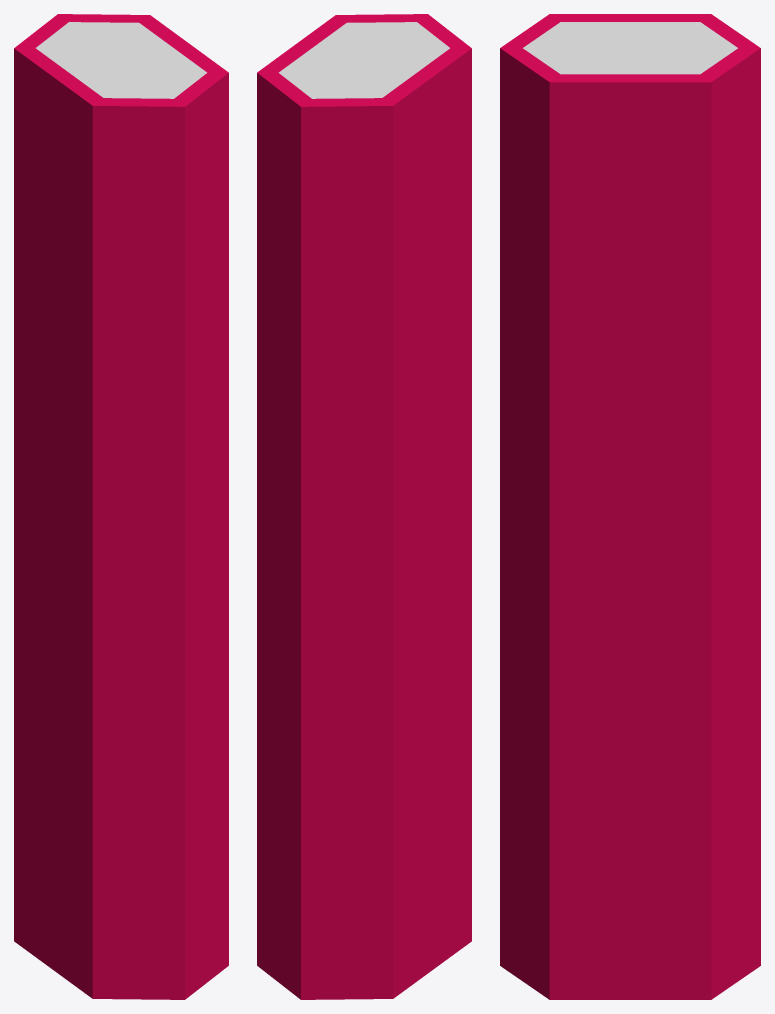
The picture shows the model from 3 angles, left to right: view 1: azimuth 30°, elevation 25°; view 2: azimuth 150°, elevation 25°; view 3: azimuth 270°, elevation 25°; orthographic projection. The views are drawn at different scales.
Visible parts, largest first — view 1: Cube; view 2: Cube; view 3: Cube.
Part boxes in pixels (box(x1,y1,x2,y2)): Cube: box(14, 14, 228, 999); Cube: box(257, 14, 471, 999); Cube: box(500, 14, 760, 999).
Size of the model in its own units: 200 by 1253 by 323.
